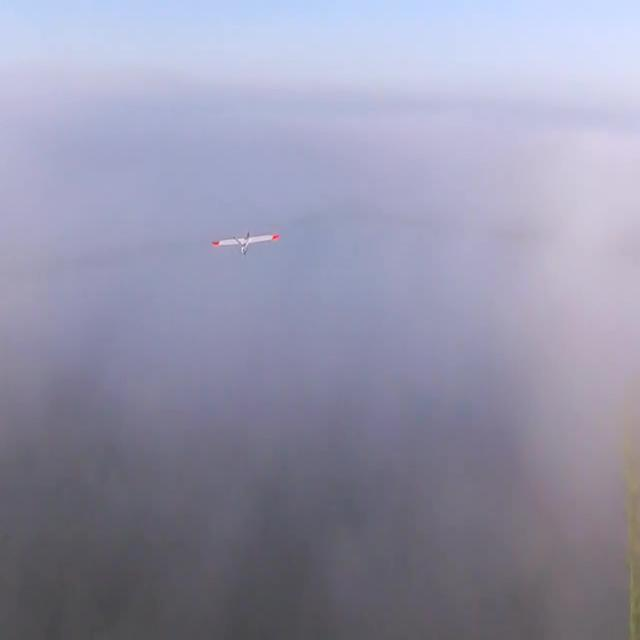iha: (244, 229, 248, 258)
